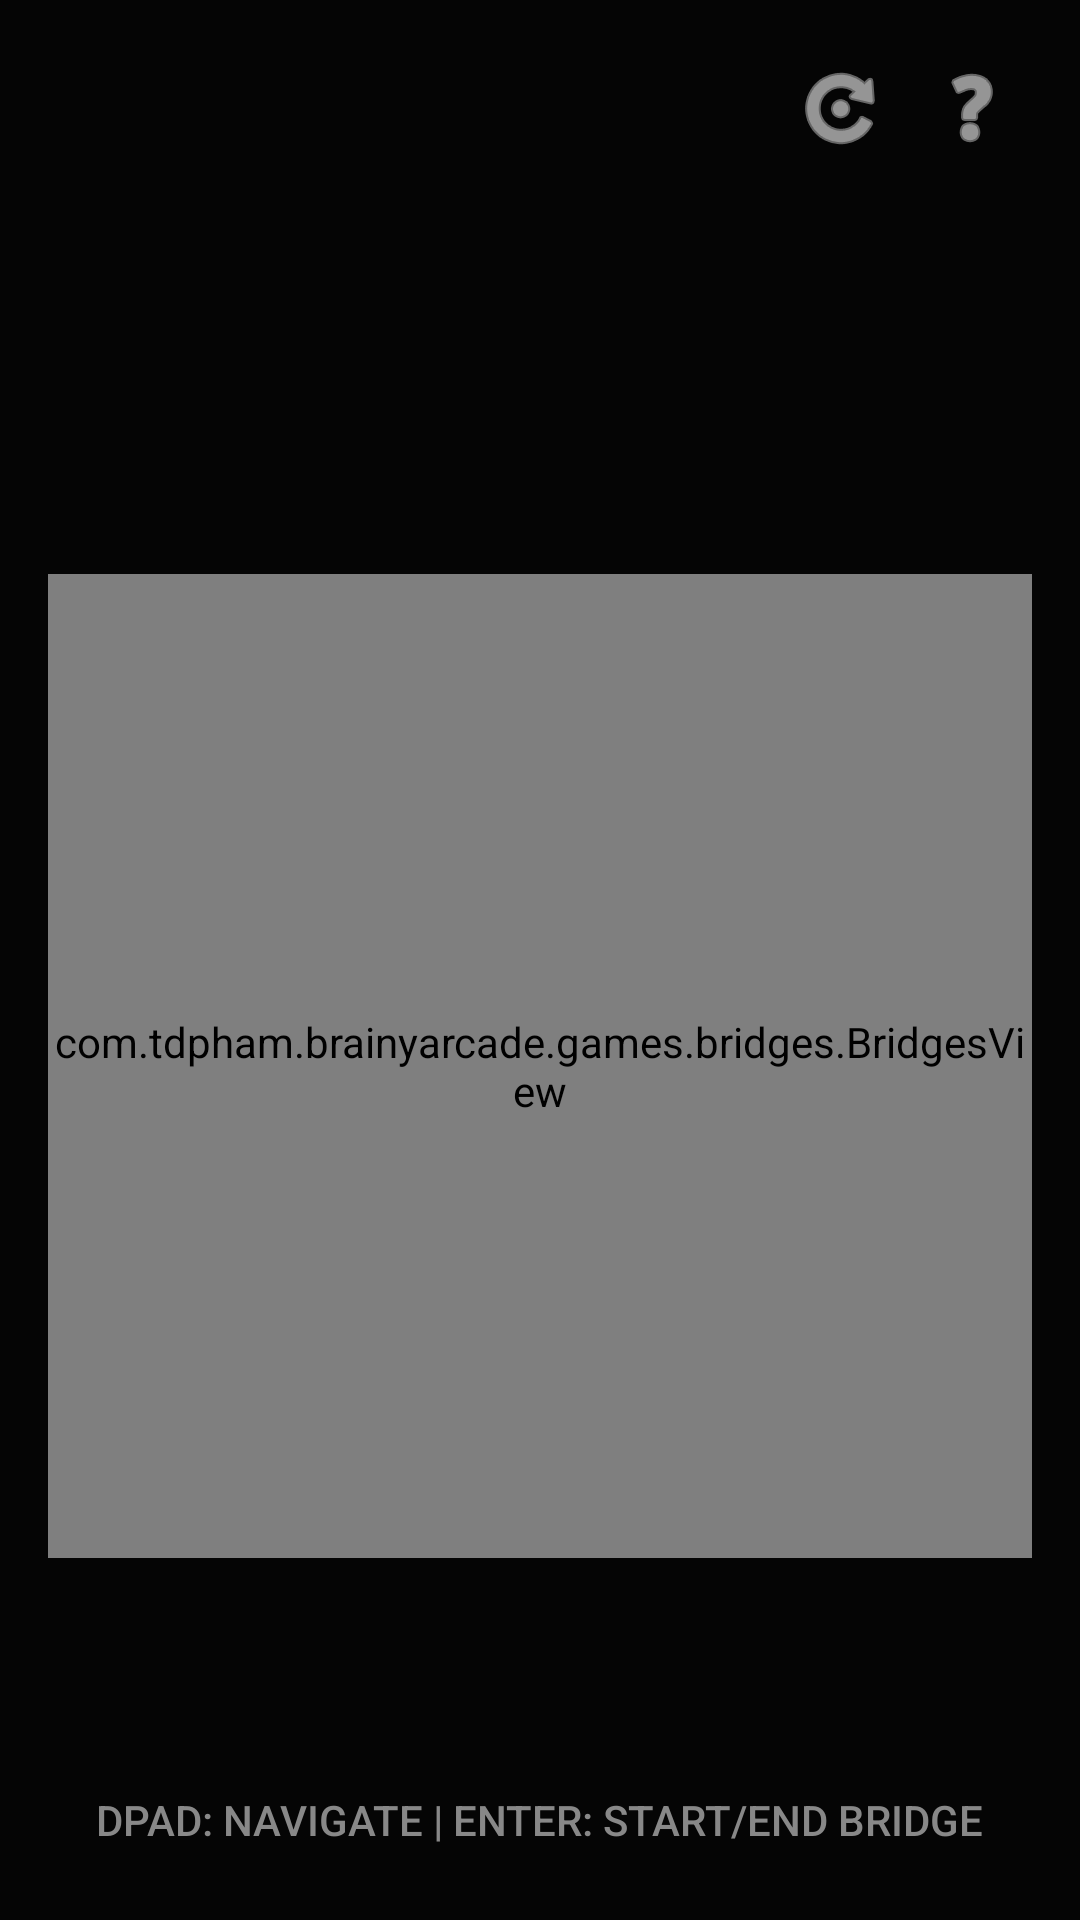

Icon bounding boxes for this 1080x1920 phone screenshot, format (x1,y1,x2,y2):
How to Play: (951,74,993,142)
New Game: (805,73,875,144)
